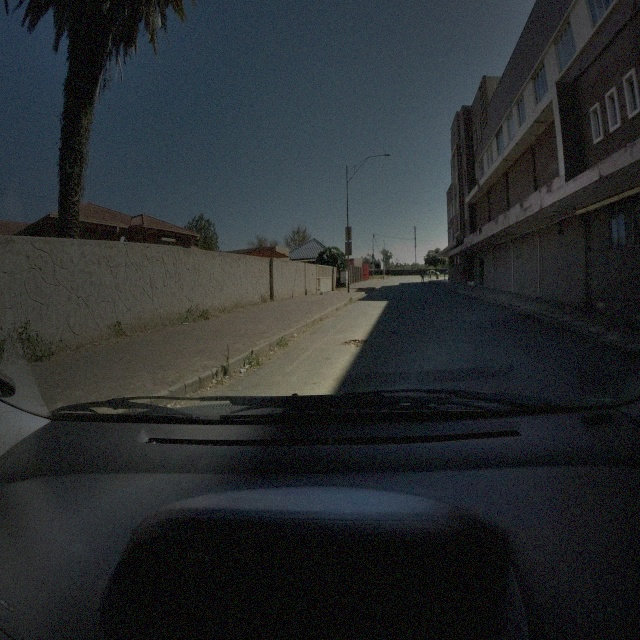pothole: (341, 336, 369, 349)
